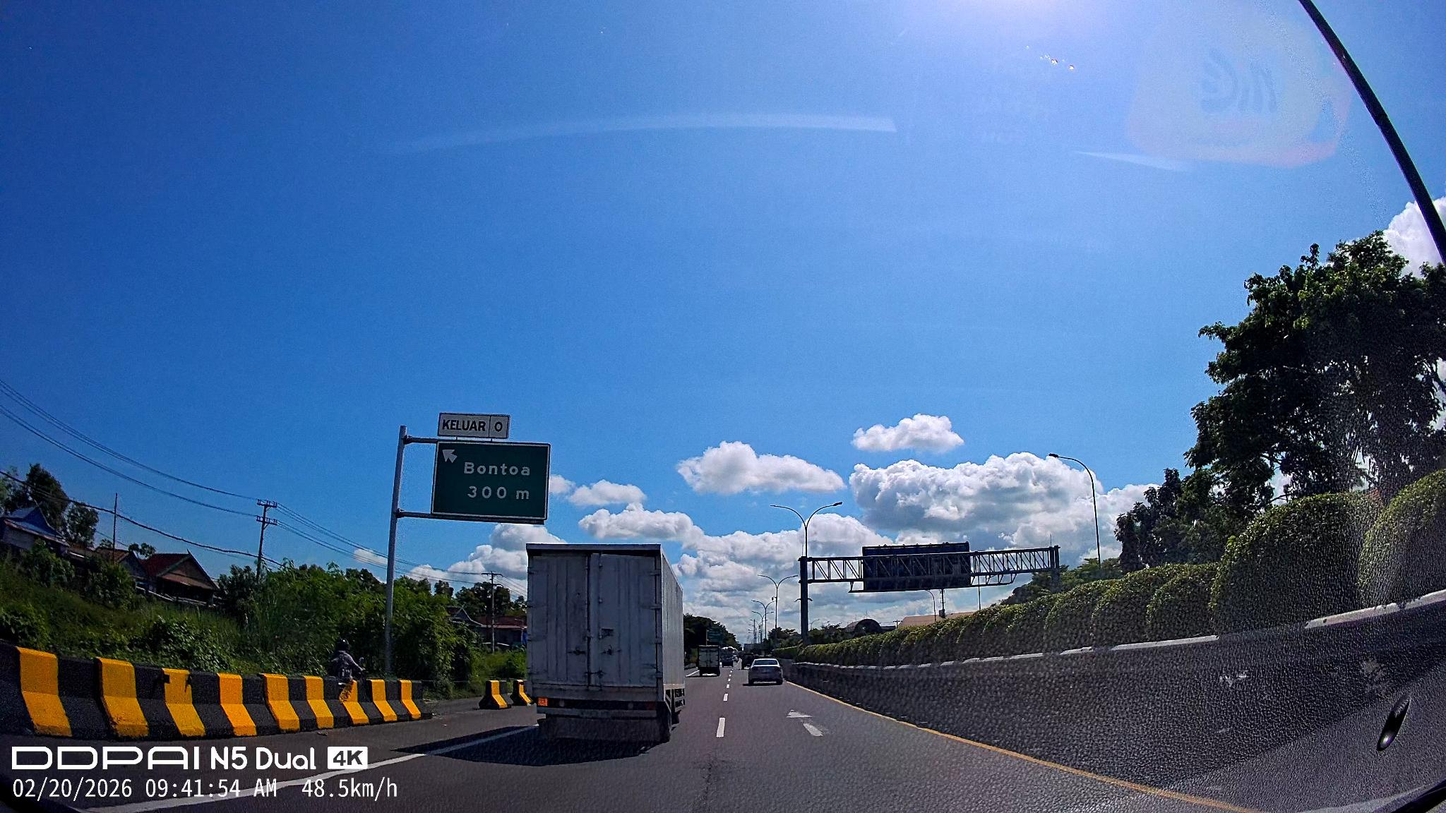rambu_teks: (432, 441, 551, 521)
